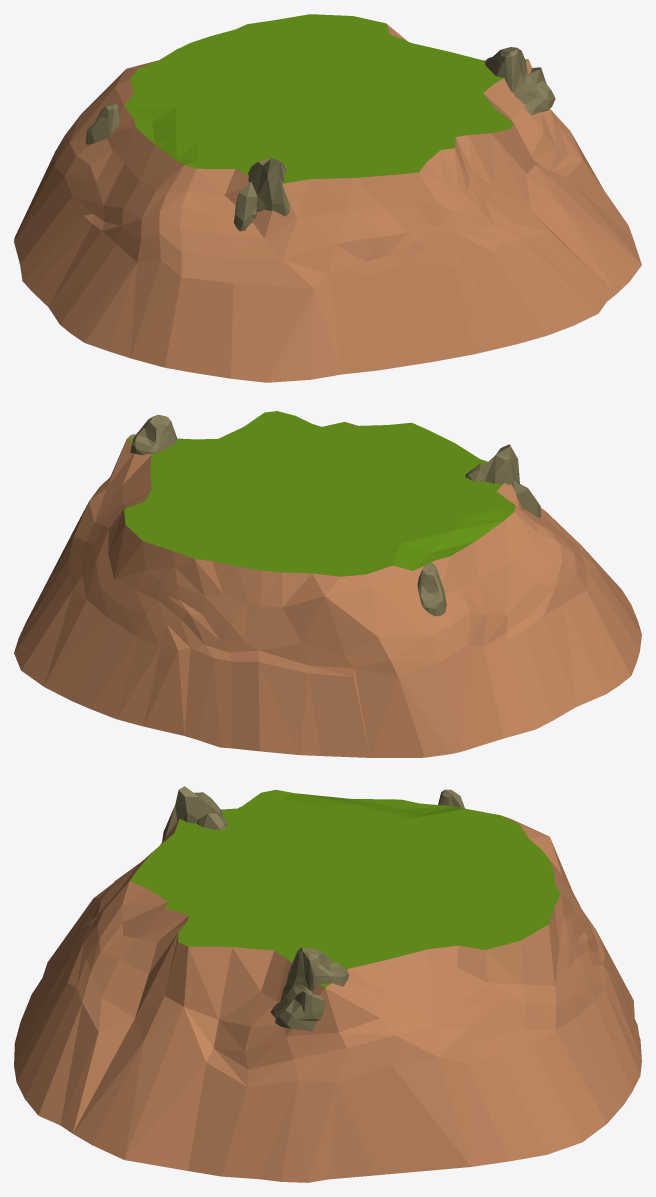
File: Islands_01.fbx
3 views of the same model, one above another, from view 1: azimuth 30°, elevation 25°; view 2: azimuth 150°, elevation 25°; view 3: azimuth 270°, elevation 25° (orthographic). The views are drawn at different scales.
Visible parts, largest first — view 1: Islands_01; view 2: Islands_01; view 3: Islands_01.
Part boxes in pixels (x1,y1,x2,y2): Islands_01: [14, 14, 641, 382]; Islands_01: [14, 411, 641, 757]; Islands_01: [14, 786, 641, 1182].
Bounding box in the file's own units: 3519 × 1082 × 3199.
